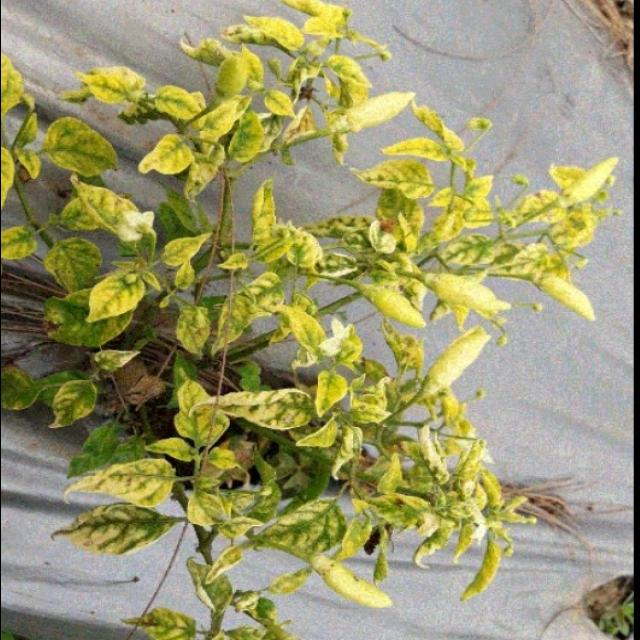virus_kuning: (352, 154, 444, 208), (134, 122, 208, 186), (83, 270, 151, 324), (66, 64, 128, 104), (386, 138, 448, 168)
